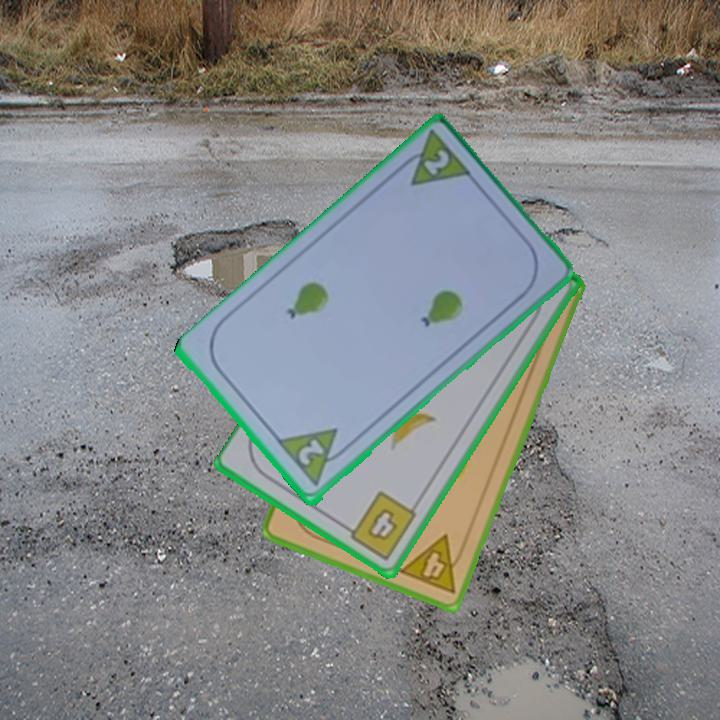2p: (274, 424, 354, 491), (392, 128, 476, 190)
4b: (339, 487, 420, 564)
4p: (395, 531, 470, 597)
